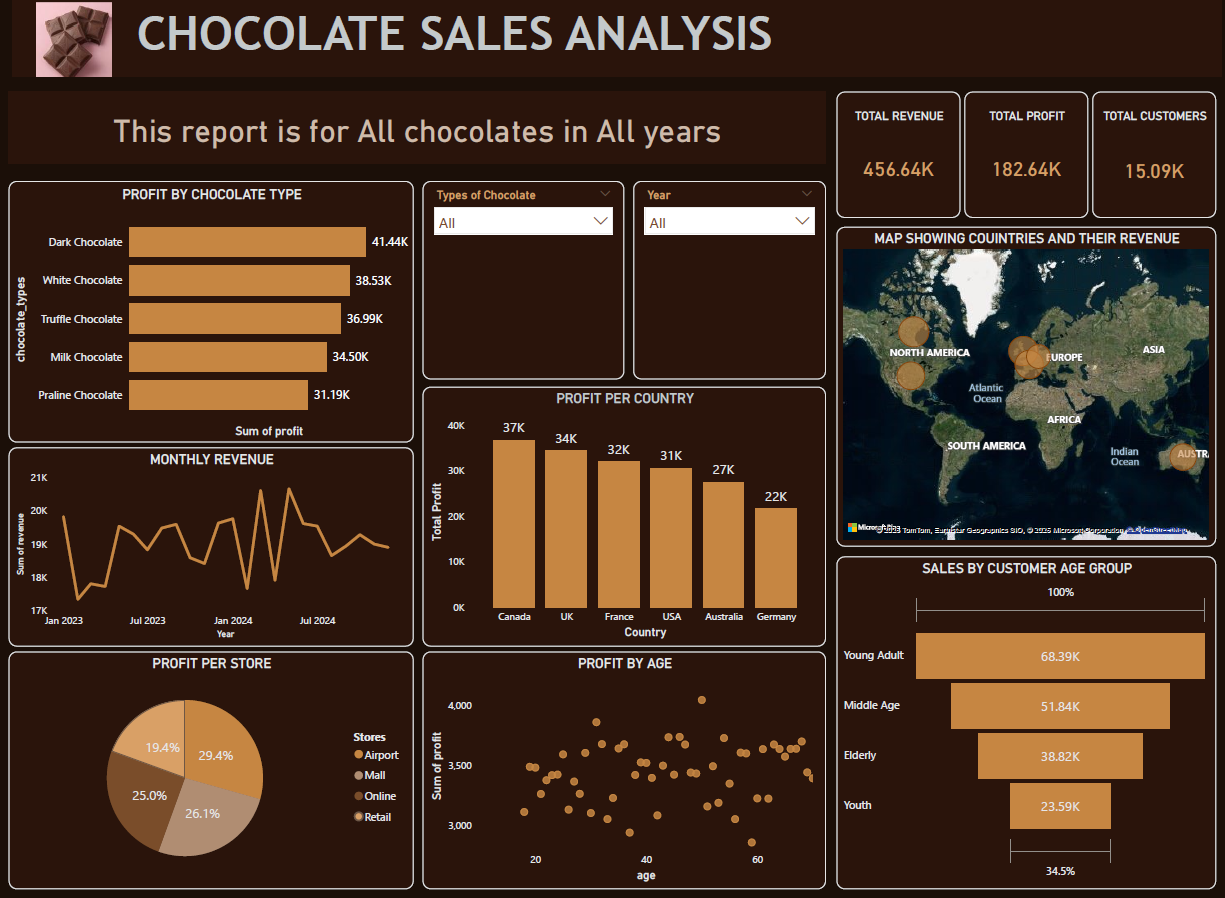

This screenshot's page, from the dashboard's own definition file:
{"tool":"powerbi","page":{"name":"Page 1","canvas":[1500,1100],"ordinal":0},"visuals":[{"type":"barChart","title":"PROFIT BY CHOCOLATE TYPE","fields":{"Category":["worksheet.chocolate_types"],"Y":["Sum(worksheet.profit)","Sum(worksheet.revenue)"]},"box":[11.3,220.3,493.7,318.4],"z":0},{"type":"card","title":"TOTAL CUSTOMERS","fields":{"Values":["Count(worksheet.customer_id)"]},"box":[1333.1,111,151.2,154.4],"z":1000},{"type":"card","title":"TOTAL PROFIT","fields":{"Values":["Sum(worksheet.profit)"]},"box":[1177.1,111,151.2,154.4],"z":2000},{"type":"lineChart","title":"MONTHLY REVENUE","fields":{"Y":["Sum(worksheet.revenue)"],"Category":["worksheet.order_date.Variation.Date Hierarchy.Year","worksheet.order_date.Variation.Date Hierarchy.Quarter","worksheet.order_date.Variation.Date Hierarchy.Month"]},"box":[11.3,545.1,493.7,242.8],"z":3000},{"type":"hundredPercentStackedColumnChart","title":"PROFIT PER COUNTRY","fields":{"Y":["Sum(worksheet.profit)","Sum(worksheet.revenue)"],"Category":["worksheet.country"]},"box":[516.2,471.2,492.1,316.8],"z":4000},{"type":"map","title":"MAP SHOWING COUINTRIES AND THEIR REVENUE","fields":{"Category":["worksheet.country"],"Size":["Sum(worksheet.revenue)"]},"box":[1020.6,275.9,463.3,390],"z":5000},{"type":"scatterChart","title":"PROFIT BY AGE","fields":{"X":["worksheet.age"],"Y":["Sum(worksheet.profit)"]},"box":[516.2,794.4,492.1,289.5],"z":6000},{"type":"funnel","title":"SALES BY CUSTOMER AGE GROUP","fields":{"Category":["worksheet.age_group"],"Y":["Sum(worksheet.profit)"]},"box":[1020.6,677.6,463.3,406.7],"z":7000},{"type":"pieChart","title":"PROFIT PER STORE","fields":{"Y":["Sum(worksheet.profit)"],"Category":["worksheet.store_type"]},"box":[11.3,794.4,493.7,289.5],"z":8000},{"type":"slicer","title":"REVENUE AND PROFIT BY CHOCOLATE TYPE","fields":{"Values":["worksheet.chocolate_types"]},"box":[516.2,220.3,246,241.2],"z":9000},{"type":"textbox","box":[16.1,0,1474.6,93.3],"z":10000},{"type":"card","title":"TOTAL REVENUE","fields":{"Values":["Sum(worksheet.revenue)"]},"box":[1021.1,111,151.2,154.4],"z":11000},{"type":"slicer","title":"REVENUE AND PROFIT BY CHOCOLATE TYPE","fields":{"Values":["worksheet.order_date.Variation.Date Hierarchy.Year"]},"box":[773.5,220.3,234.8,241.2],"z":12000},{"type":"card","fields":{"Values":["worksheet.InteractiveTitle"]},"box":[11.3,111,997,88.4],"z":13000},{"type":"image","box":[16.1,1.6,147.9,91.7],"z":14000}]}

Visuals, with their boxes in screenshot pixels (x1, y1, x2, y2), scaled from the page's 1500x1100 canvas onto the 1225x898 screenshot:
"PROFIT BY CHOCOLATE TYPE" barChart: locate(9, 180, 412, 440)
"TOTAL CUSTOMERS" card: locate(1089, 91, 1212, 217)
"TOTAL PROFIT" card: locate(961, 91, 1085, 217)
"MONTHLY REVENUE" lineChart: locate(9, 445, 412, 643)
"PROFIT PER COUNTRY" hundredPercentStackedColumnChart: locate(422, 385, 823, 643)
"MAP SHOWING COUINTRIES AND THEIR REVENUE" map: locate(833, 225, 1212, 544)
"PROFIT BY AGE" scatterChart: locate(422, 649, 823, 885)
"SALES BY CUSTOMER AGE GROUP" funnel: locate(833, 553, 1212, 885)
"PROFIT PER STORE" pieChart: locate(9, 649, 412, 885)
"REVENUE AND PROFIT BY CHOCOLATE TYPE" slicer: locate(422, 180, 622, 377)
textbox: locate(13, 0, 1217, 76)
"TOTAL REVENUE" card: locate(834, 91, 957, 217)
"REVENUE AND PROFIT BY CHOCOLATE TYPE" slicer: locate(632, 180, 823, 377)
card - worksheet.InteractiveTitle: locate(9, 91, 823, 163)
image: locate(13, 1, 134, 76)
